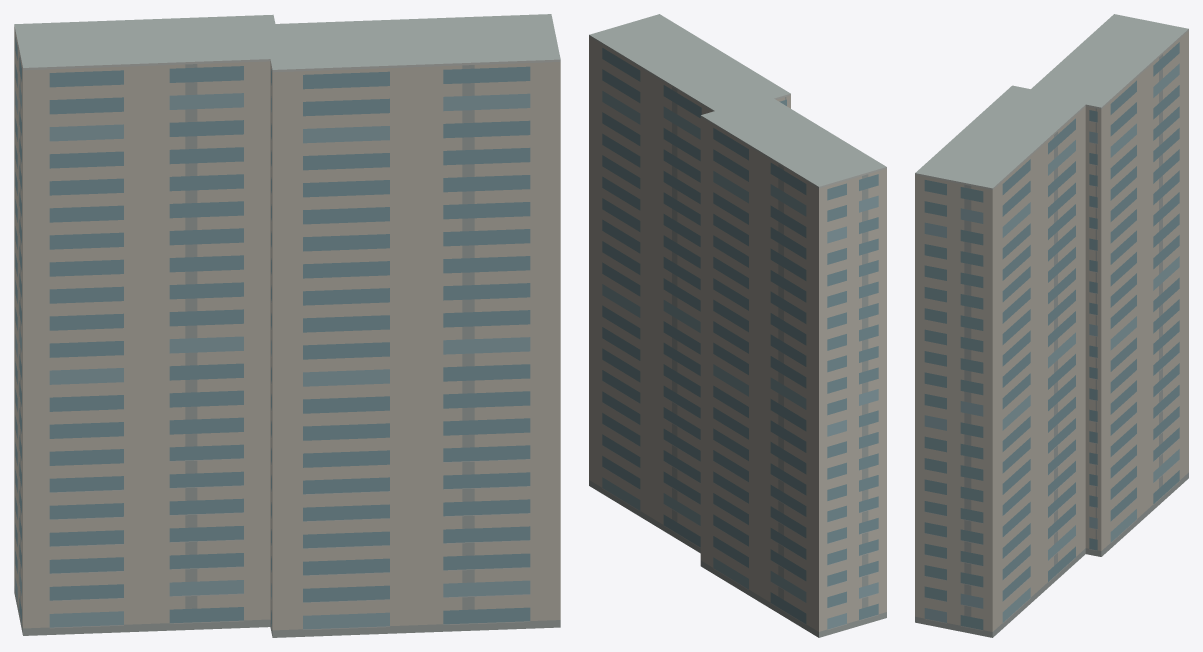
Rendered from residential-9cfea8b9-618b-4b10-9a4f-374a708014eb.glb.
3 renders of one model, left to right at view 1: azimuth 30°, elevation 25°; view 2: azimuth 150°, elevation 25°; view 3: azimuth 270°, elevation 25°, orthographic. The views are drawn at different scales.
Parts seen in each view (by area): view 1: residential-9cfea8b9-618b-4b10-9a4f-374a708014eb.tmp; view 2: residential-9cfea8b9-618b-4b10-9a4f-374a708014eb.tmp; view 3: residential-9cfea8b9-618b-4b10-9a4f-374a708014eb.tmp.
Boxes of the visible parts, x1,y1,x2,y2 form: residential-9cfea8b9-618b-4b10-9a4f-374a708014eb.tmp: (14, 14, 560, 637); residential-9cfea8b9-618b-4b10-9a4f-374a708014eb.tmp: (589, 14, 886, 637); residential-9cfea8b9-618b-4b10-9a4f-374a708014eb.tmp: (915, 14, 1188, 637).
Size of the model in its own units: 50.77 by 61 by 33.67.
